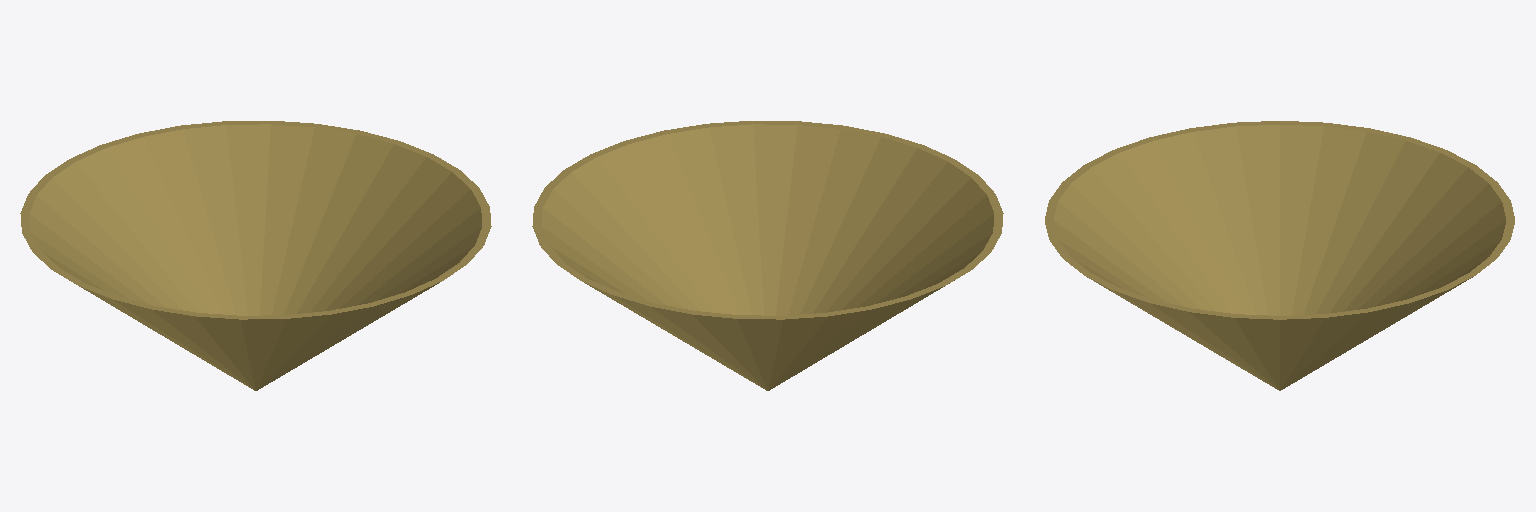
URDF robot description (object):
<?xml version="1.0"?>
<robot name="object">
  <link name="base_link"> <!-- required name-->
    <inertial>
      <origin xyz="0 0 0" /> 
      <mass value="1.0" />
      <inertia  ixx="1.0" ixy="0.0"  ixz="0.0"  iyy="1.0"  iyz="0.0"  izz="1.0" />
    </inertial>
    <visual>
      <origin xyz="0 0 0"/>
      <geometry>
        <!-- cone2 is slightly larger than a cone defined for mu = 1.2 -->
        <mesh filename="package://animals_description/meshes/cone2.dae"/>
      </geometry>
    </visual>
  </link>
</robot>

--- Facts derived from the render (not from the file) ---
Views: 3 orthographic renders of the robot side by side, from view 1: azimuth 30°, elevation 25°; view 2: azimuth 150°, elevation 25°; view 3: azimuth 270°, elevation 25°.
Robot: object — 1 links, 0 joints (none); root link base_link; default pose: every joint at zero.
Visible links, largest first — view 1: base_link; view 2: base_link; view 3: base_link.
Boxes of the visible links, x1,y1,x2,y2 form: base_link: (20, 121, 491, 390); base_link: (532, 121, 1003, 390); base_link: (1045, 121, 1514, 390).
Size in the robot's own frame: 0.6562 by 0.6562 by 0.2629 metres.
Meshes: 1 distinct files referenced, 1 mesh visuals loaded (1 Collada DAE).